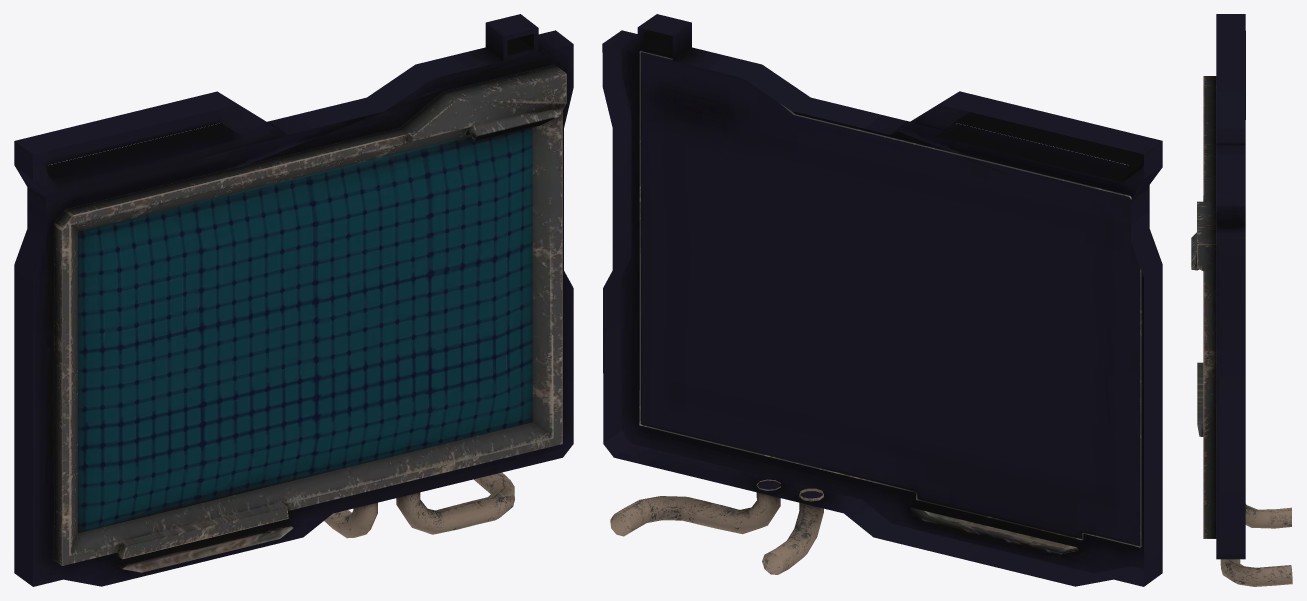
The model's file is screen.glb.
3 renders of one model, left to right at view 1: azimuth 30°, elevation 25°; view 2: azimuth 150°, elevation 25°; view 3: azimuth 270°, elevation 25°, orthographic. The views are drawn at different scales.
Visible parts, largest first — view 1: marco__0; view 2: marco__0; view 3: marco__0.
Part boxes in pixels (x1,y1,x2,y2): marco__0: (14, 14, 573, 586); marco__0: (602, 14, 1162, 586); marco__0: (1191, 14, 1292, 586).
Bounding box in the file's own units: 61.18 × 52.87 × 12.6.
Materials: 1 (1 with a texture image).
